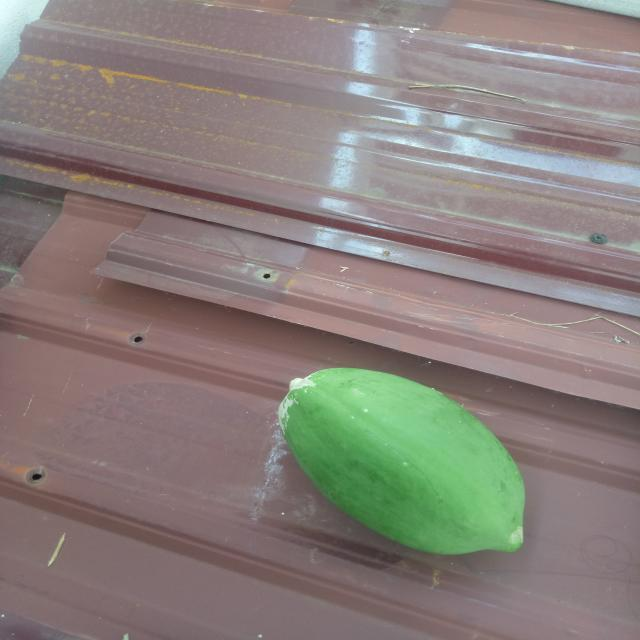Pepaya unrippen: (271, 364, 534, 564)
